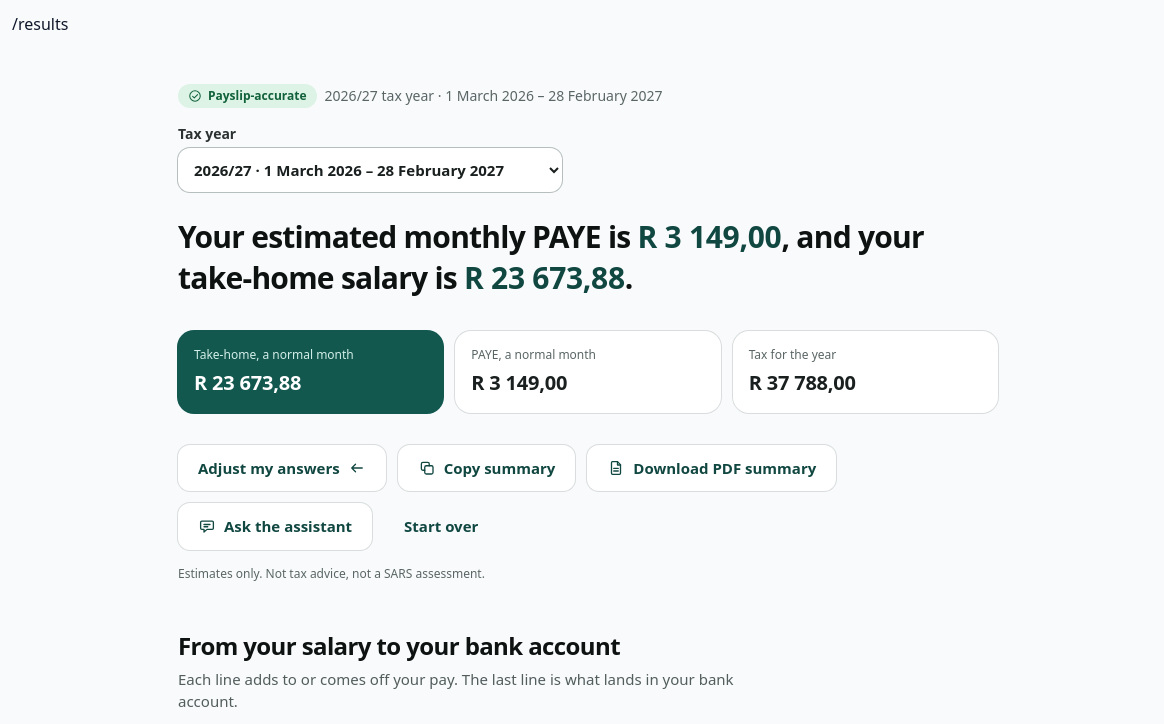
Test: results page: copy summary › copies the headline, key numbers and an estimate label, then says so
Click the button "Copy summary" at (487, 468), box top-left (398, 444), bottom-right (575, 491)
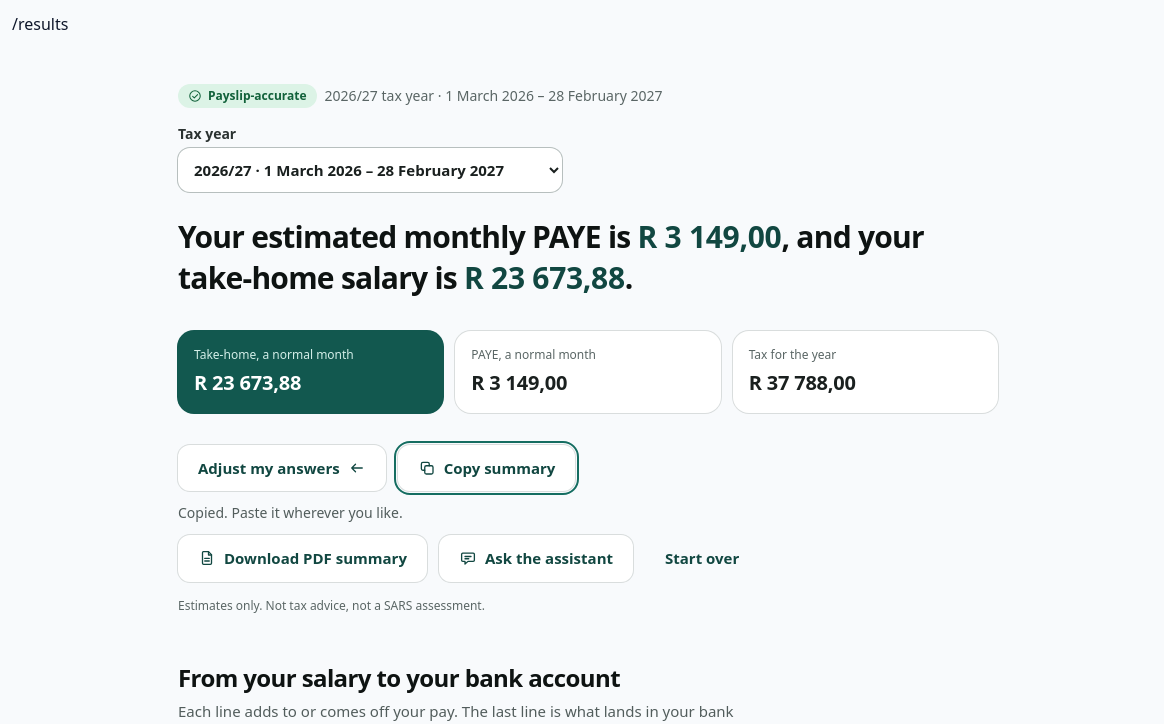
Expected: the text "Copied. Paste it wherever you like." is shown, top-left (178, 503), bottom-right (403, 522)
